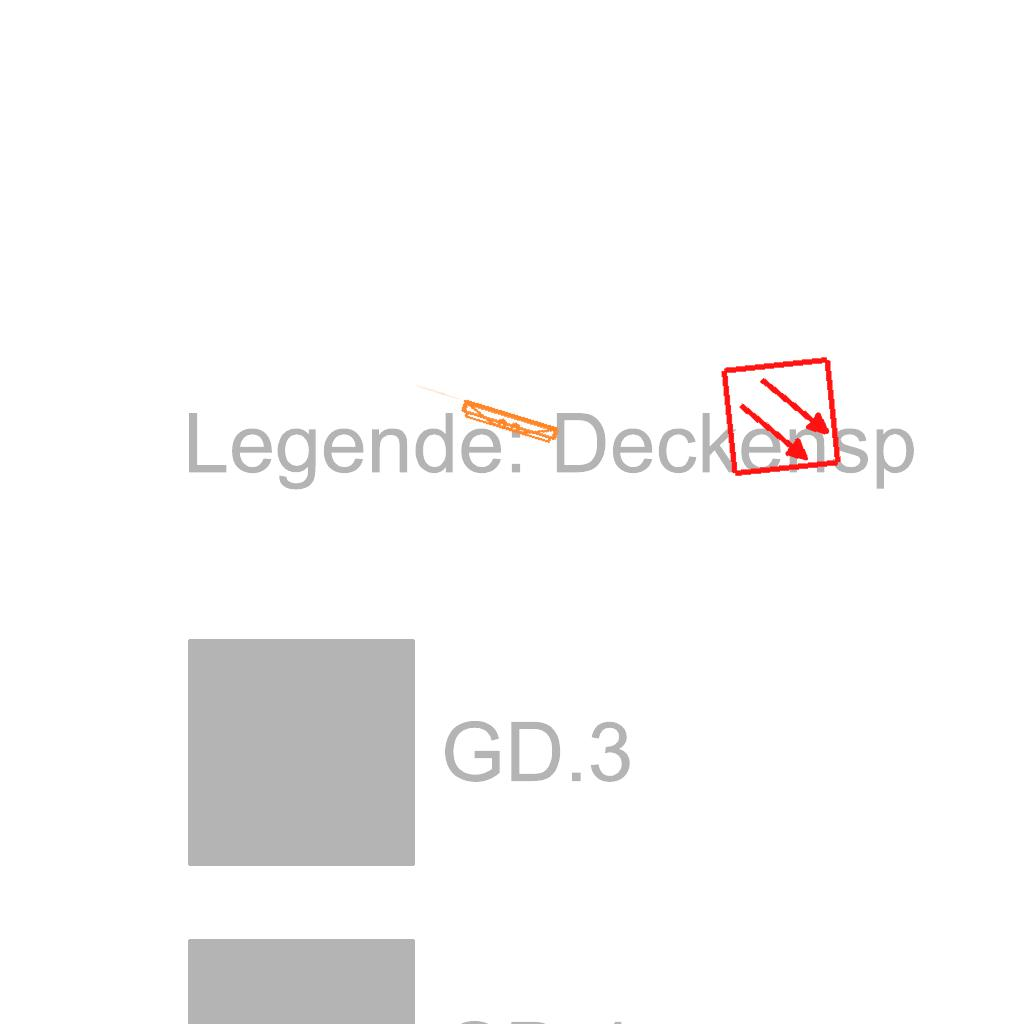RMO_Rauchmelder_optischer: (719, 354, 844, 479)
Sicherheitsleuchte_Wandeinbau: (405, 380, 566, 451)
